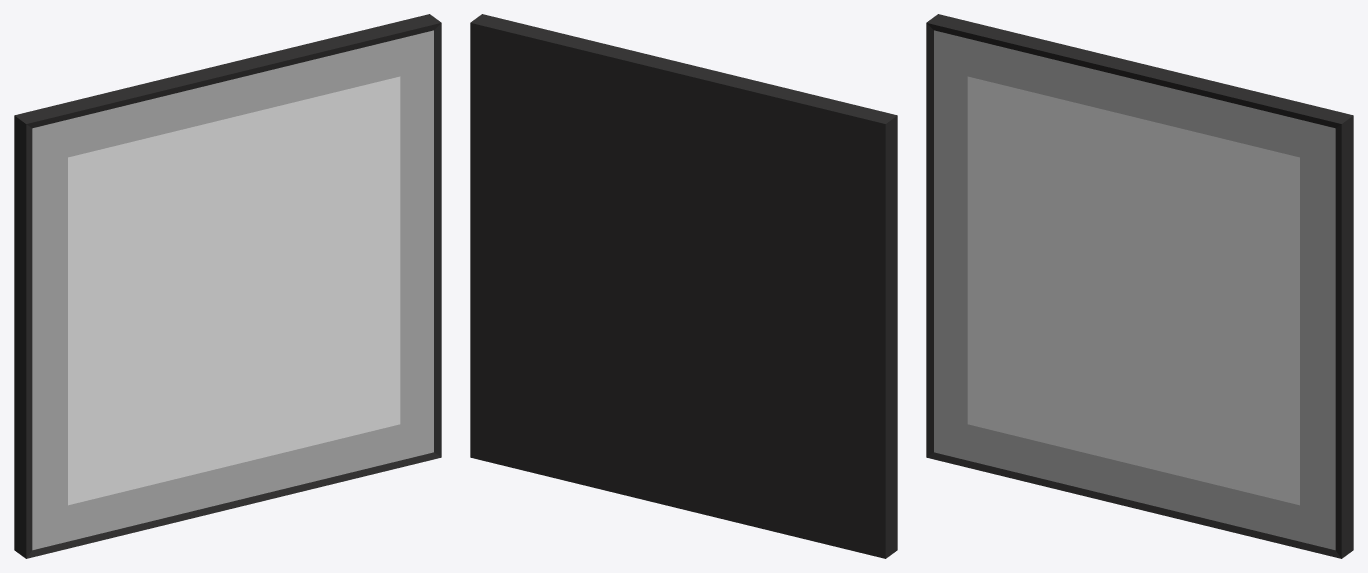
File: 2dframe.fbx
3 views of the same model, side by side, from view 1: azimuth 30°, elevation 25°; view 2: azimuth 150°, elevation 25°; view 3: azimuth 330°, elevation 25° (orthographic).
Visible parts, largest first — view 1: image, frame; view 2: frame; view 3: image, frame.
Boxes of the visible parts, x1,y1,x2,y2 form: image: (68,76,400,505); frame: (14,14,441,558); frame: (470,14,897,558); image: (967,76,1299,505); frame: (926,14,1353,558).
Bounding box in the file's own units: 4 × 4 × 0.2011.
Materials: 2 (1 with a texture image).
